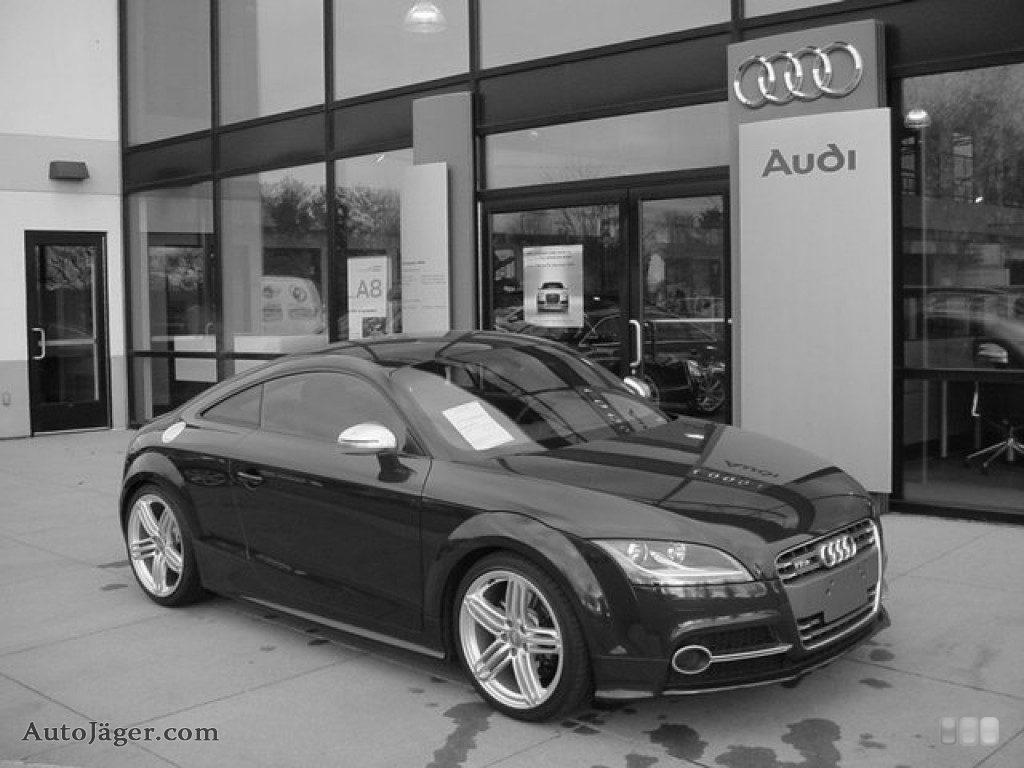car: (120, 324, 890, 731)
